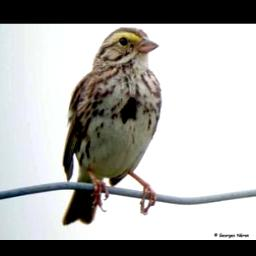Sparrow: (59, 25, 163, 226)
